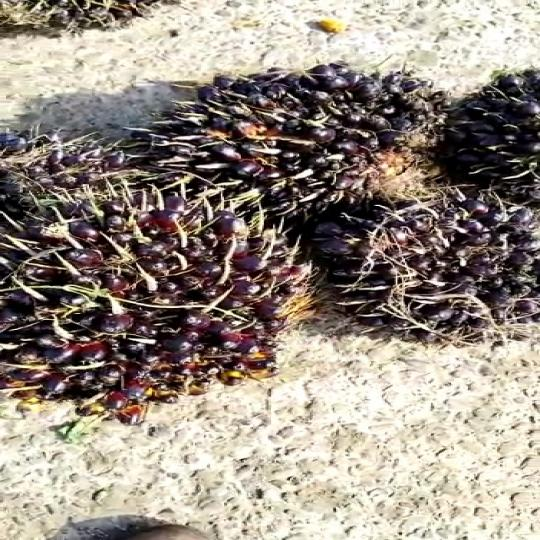kurang masak: (0, 120, 360, 404), (133, 59, 428, 220), (332, 187, 540, 365)
